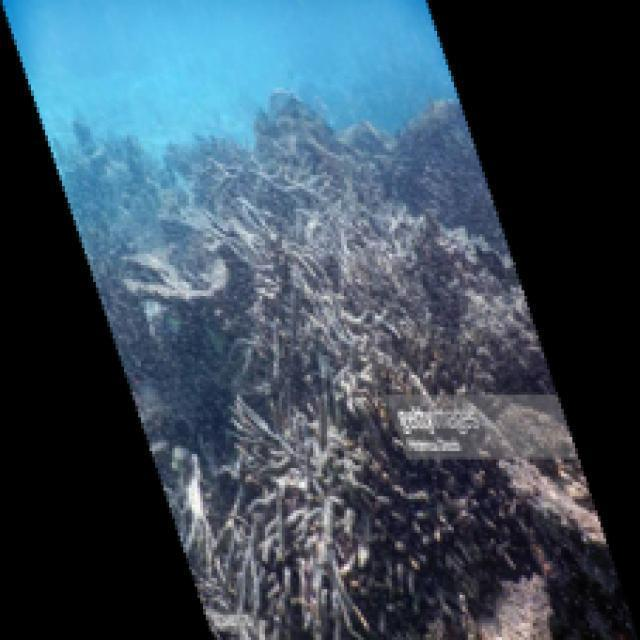Dead Coral: (165, 185, 428, 394), (227, 461, 487, 639)
